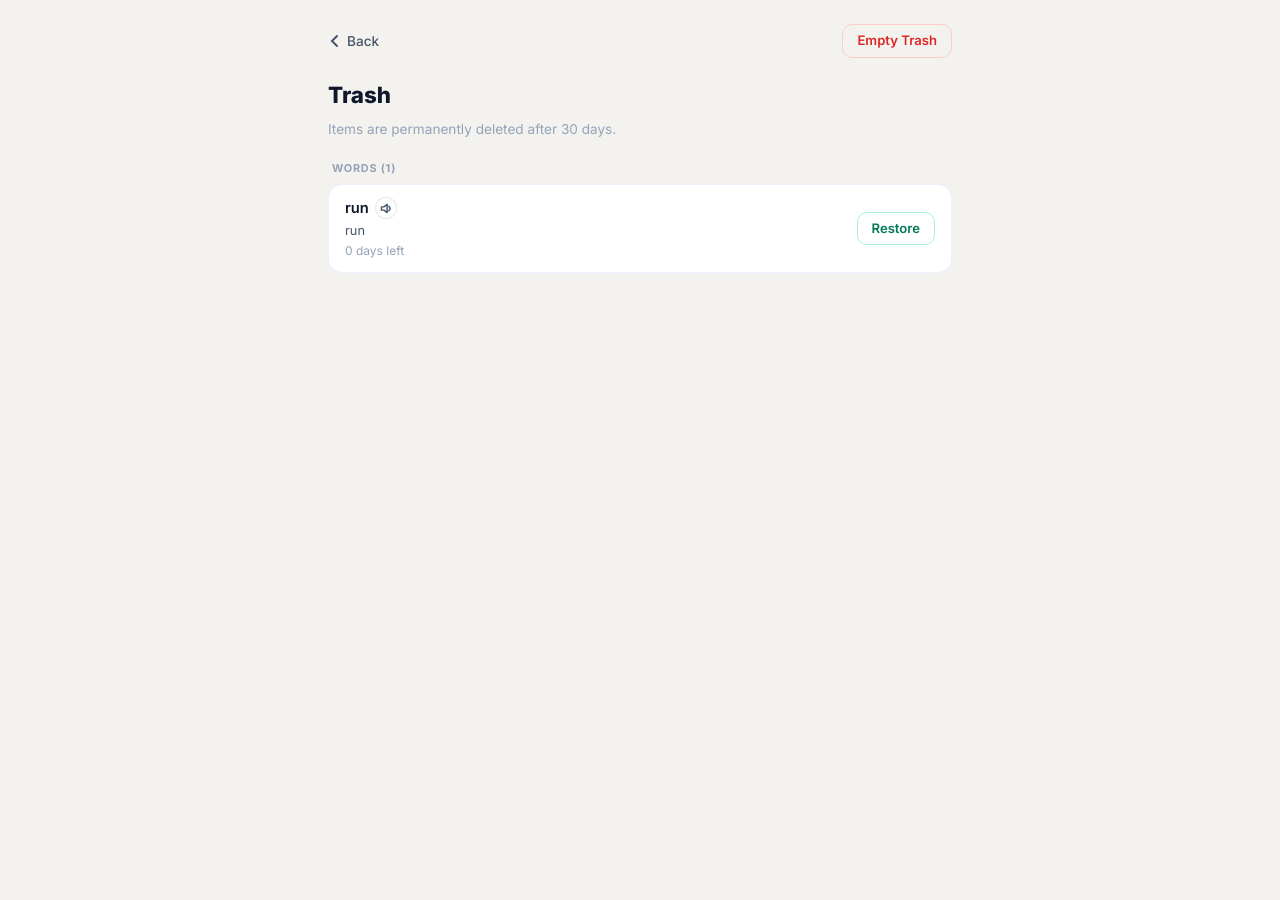
Scenario: TrashPage cache invalidation › shows purge failure in the open confirmation so the user can retry
Click the button "Empty Trash": (897, 41) [842,24,952,58]
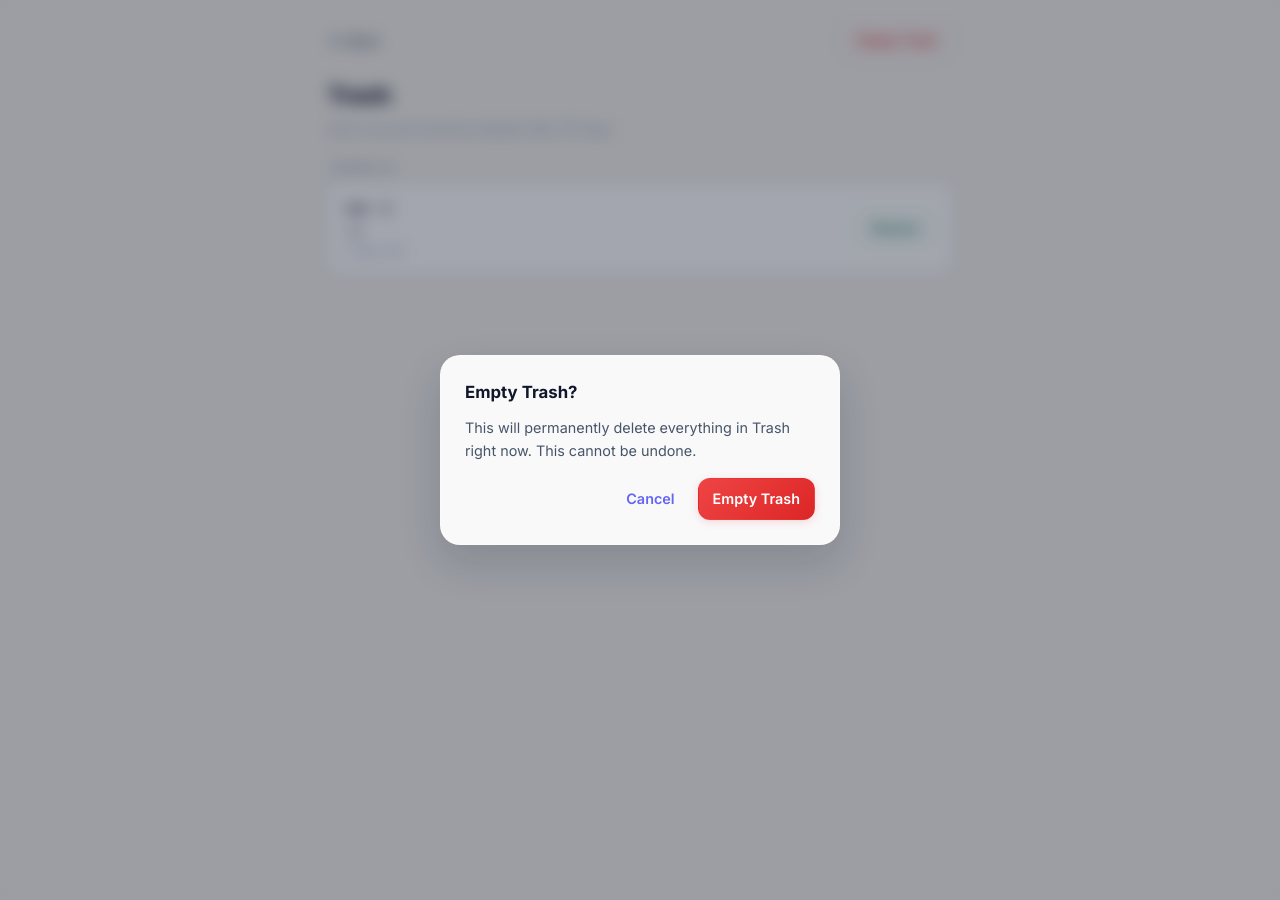
Click the button "Empty Trash": (756, 499) [698,478,815,520]
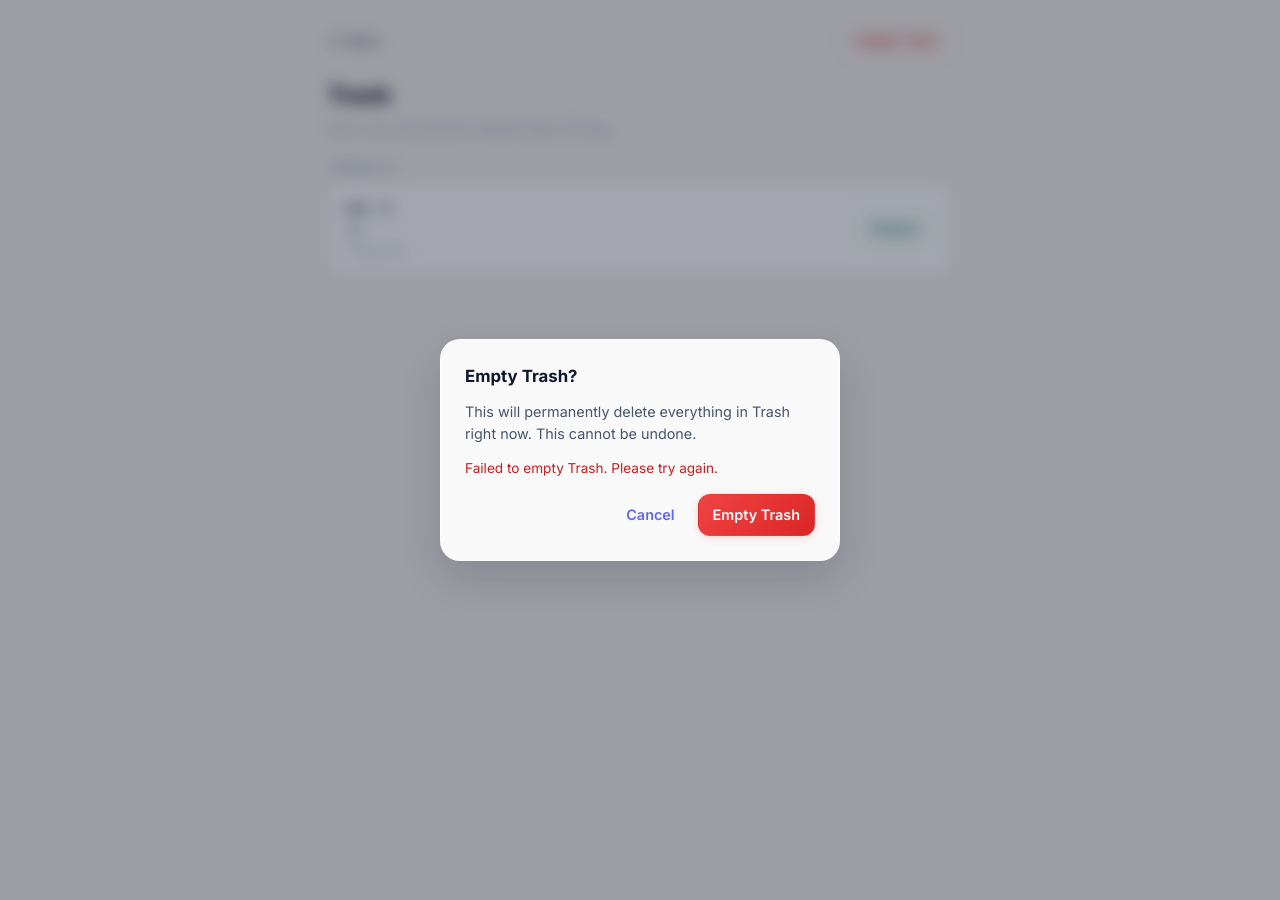
Expected: the button "Cancel" is shown, [611,494,690,536]
Expected: the text "Failed to empty Trash. Please try again." is shown, [465,460,718,476]
